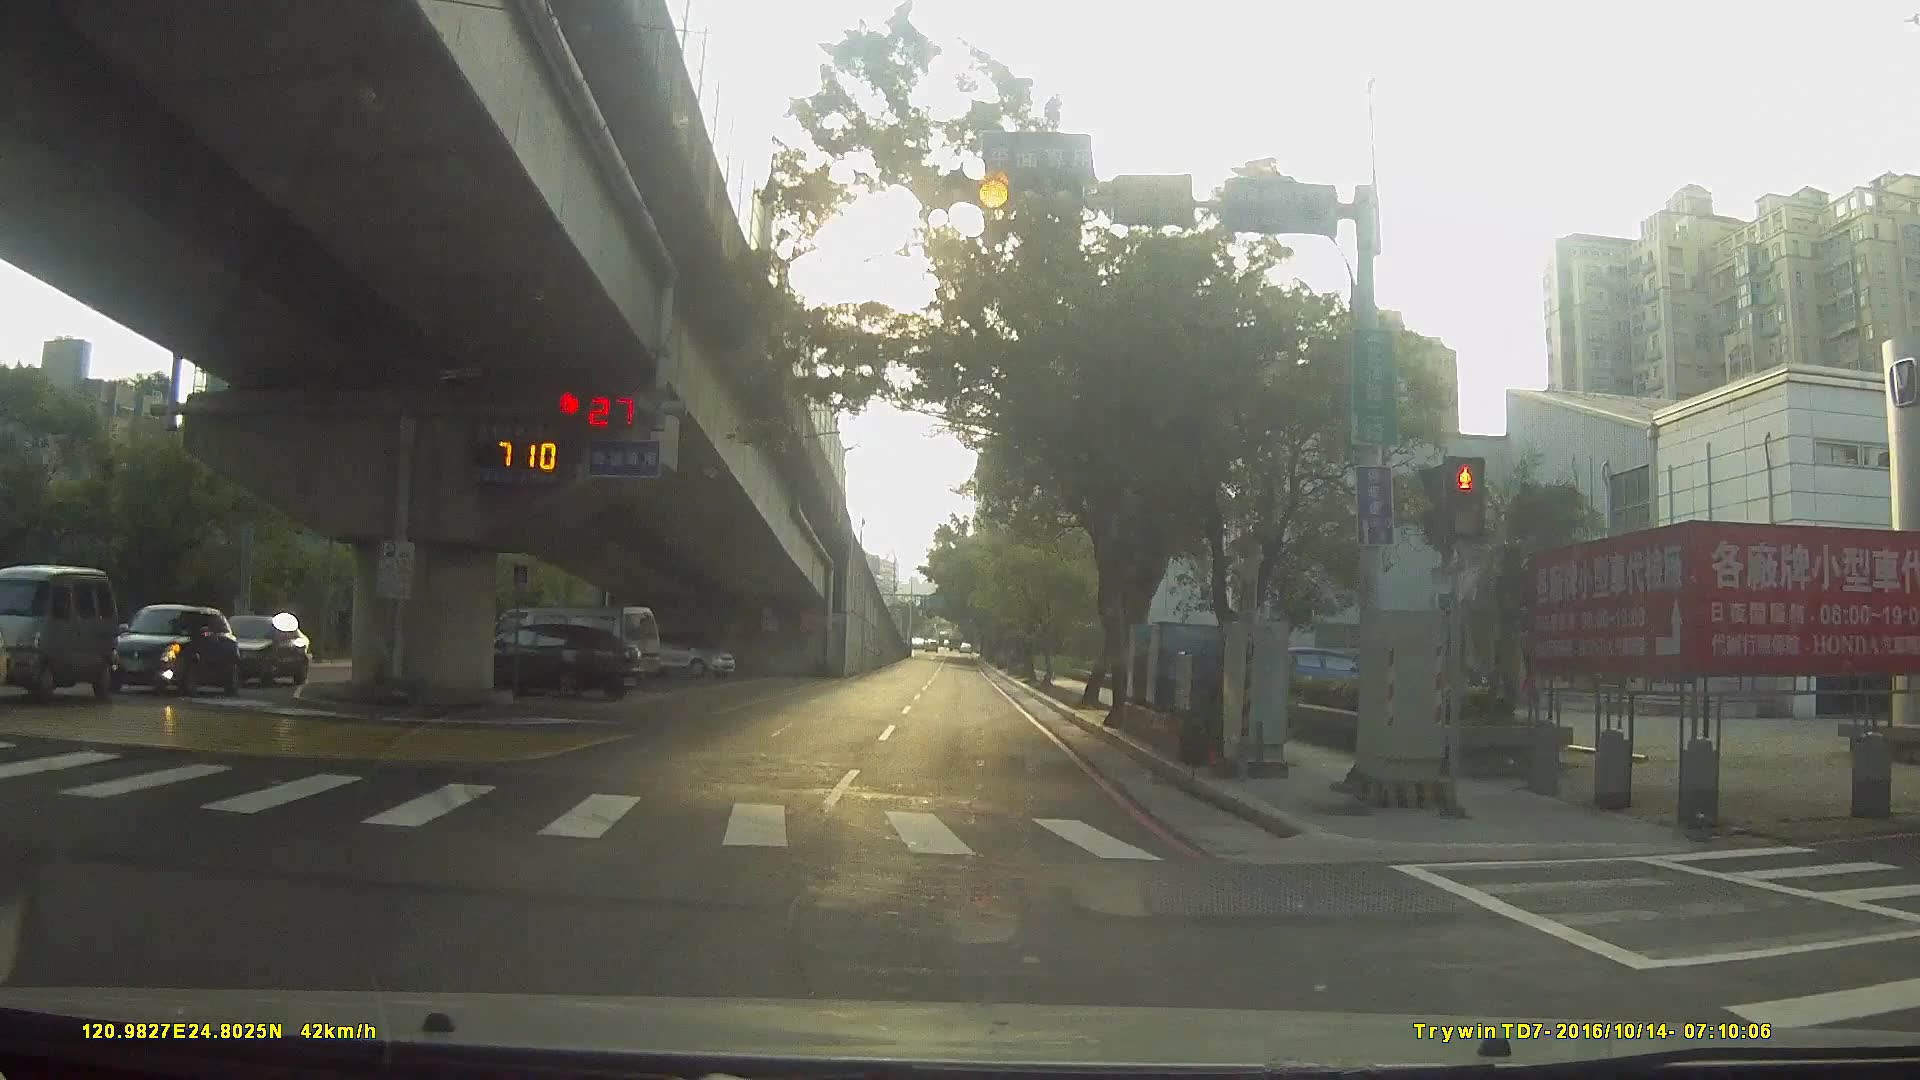vehicle: (1, 555, 128, 699), (477, 603, 658, 688), (454, 618, 640, 700), (94, 597, 233, 696), (194, 605, 318, 680), (629, 630, 735, 678)
